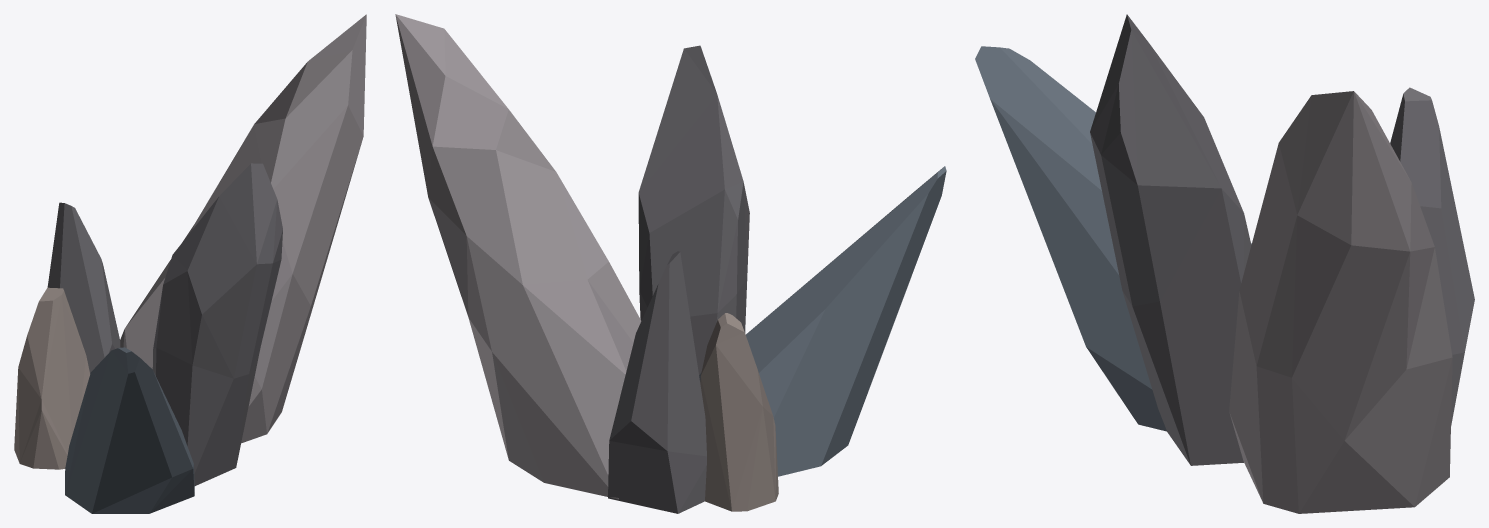
File: Rocks_Sharp_l_06 2.fbx
The picture shows the model from 3 angles, left to right: view 1: azimuth 30°, elevation 25°; view 2: azimuth 150°, elevation 25°; view 3: azimuth 270°, elevation 25°; orthographic projection. The views are drawn at different scales.
Parts seen in each view (by area): view 1: Rocks_Sharp_l_06; view 2: Rocks_Sharp_l_06; view 3: Rocks_Sharp_l_06.
Boxes of the visible parts, x1,y1,x2,y2 form: Rocks_Sharp_l_06: [14, 14, 366, 513]; Rocks_Sharp_l_06: [395, 14, 946, 513]; Rocks_Sharp_l_06: [975, 14, 1474, 513].
Size of the model in its own units: 407 by 379 by 342.
